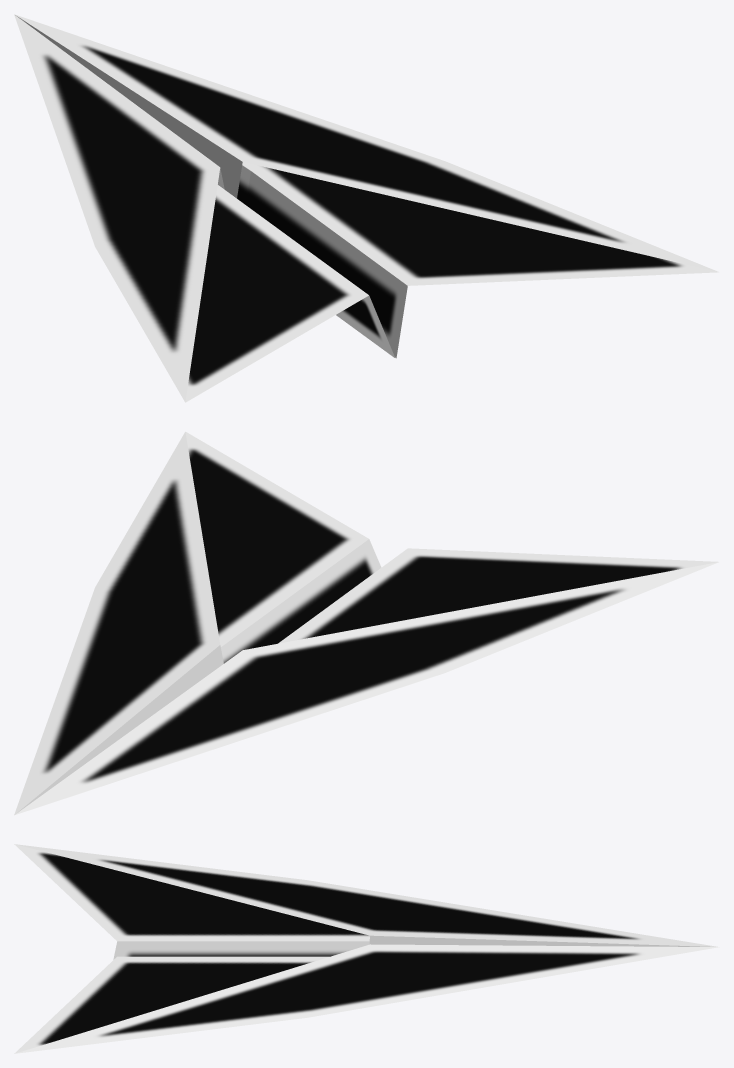
3 renders of one model, top to bottom at view 1: azimuth 30°, elevation 25°; view 2: azimuth 150°, elevation 25°; view 3: azimuth 270°, elevation 25°, orthographic. The views are drawn at different scales.
Parts seen in each view (by area): view 1: Plane; view 2: Plane; view 3: Plane.
Boxes of the visible parts, x1=… form: Plane: x1=14, y1=14, x2=718, y2=402; Plane: x1=14, y1=431, x2=718, y2=815; Plane: x1=14, y1=844, x2=719, y2=1053.
Bounding box in the file's own units: 5.4 × 0.7101 × 7.68.
1 material, 1 textured.
